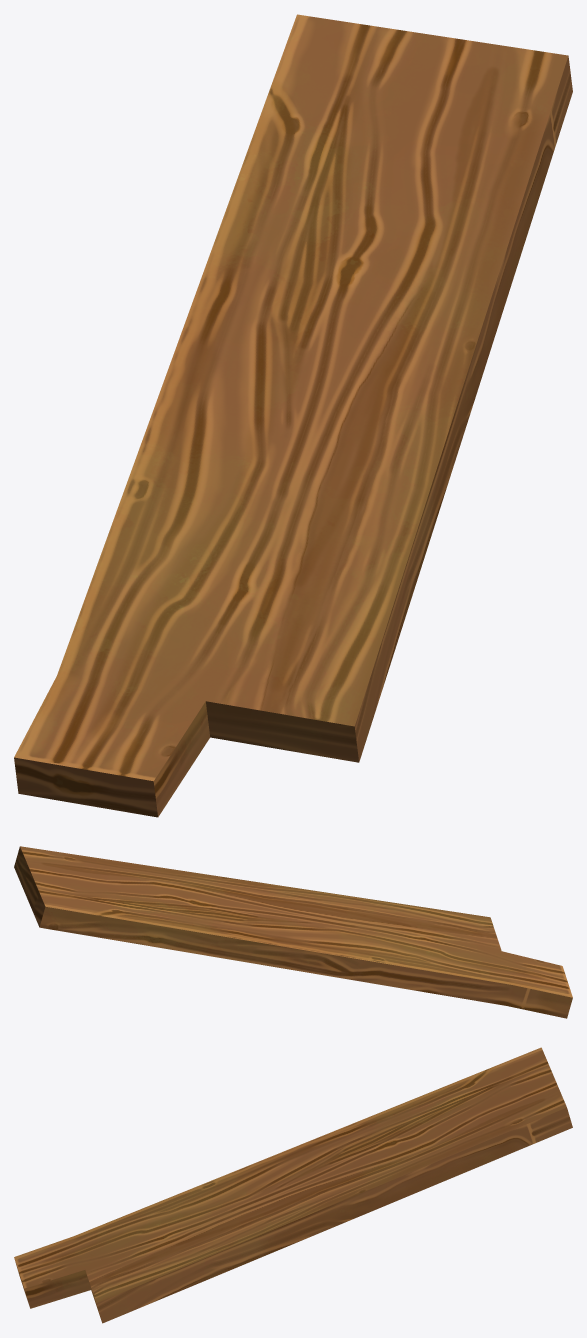
The picture shows the model from 3 angles, top to bottom: view 1: azimuth 30°, elevation 25°; view 2: azimuth 150°, elevation 25°; view 3: azimuth 330°, elevation 25°; orthographic projection. The views are drawn at different scales.
Parts seen in each view (by area): view 1: Cube.655; view 2: Cube.655; view 3: Cube.655.
Boxes of the visible parts, left/top/right/bottom form: Cube.655: left=14, top=14, right=572, bottom=817; Cube.655: left=14, top=846, right=572, bottom=1018; Cube.655: left=14, top=1047, right=572, bottom=1323.
Bounding box in the file's own units: 273 × 106 × 269.
1 material, 1 textured.
